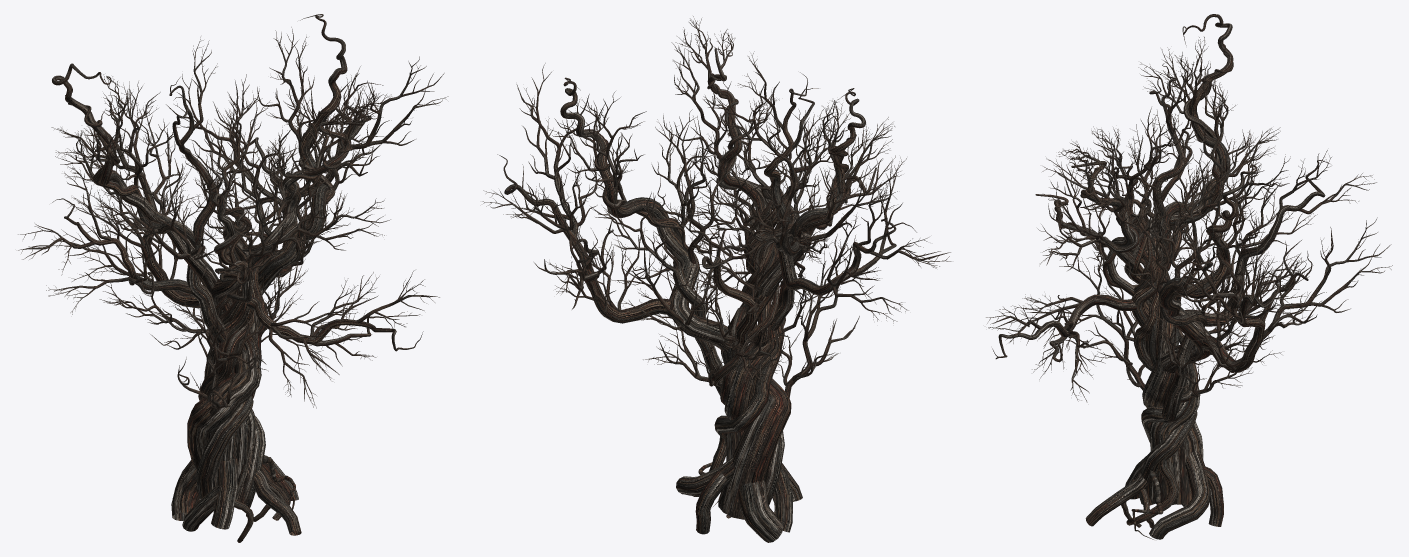
Rendered from dead tree.gltf.
3 views of the same model, side by side, from view 1: azimuth 30°, elevation 25°; view 2: azimuth 150°, elevation 25°; view 3: azimuth 270°, elevation 25° (orthographic). The views are drawn at different scales.
Visible parts, largest first — view 1: dead_tree; view 2: dead_tree; view 3: dead_tree.
Part boxes in pixels (x1,y1,x2,y2): dead_tree: (18,14,448,542); dead_tree: (482,16,951,542); dead_tree: (986,14,1392,539).
Bounding box in the file's own units: 22.97 × 24.8 × 20.01.
2 materials, 2 textured.
